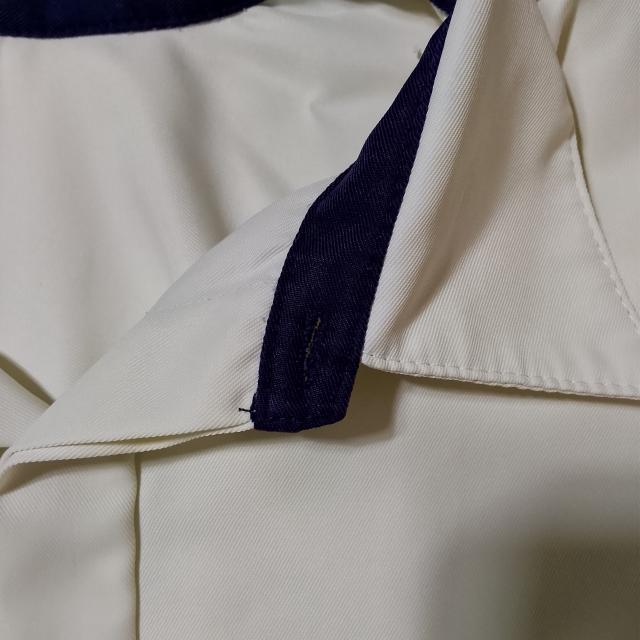education_male_uniform: (90, 60, 640, 553)
